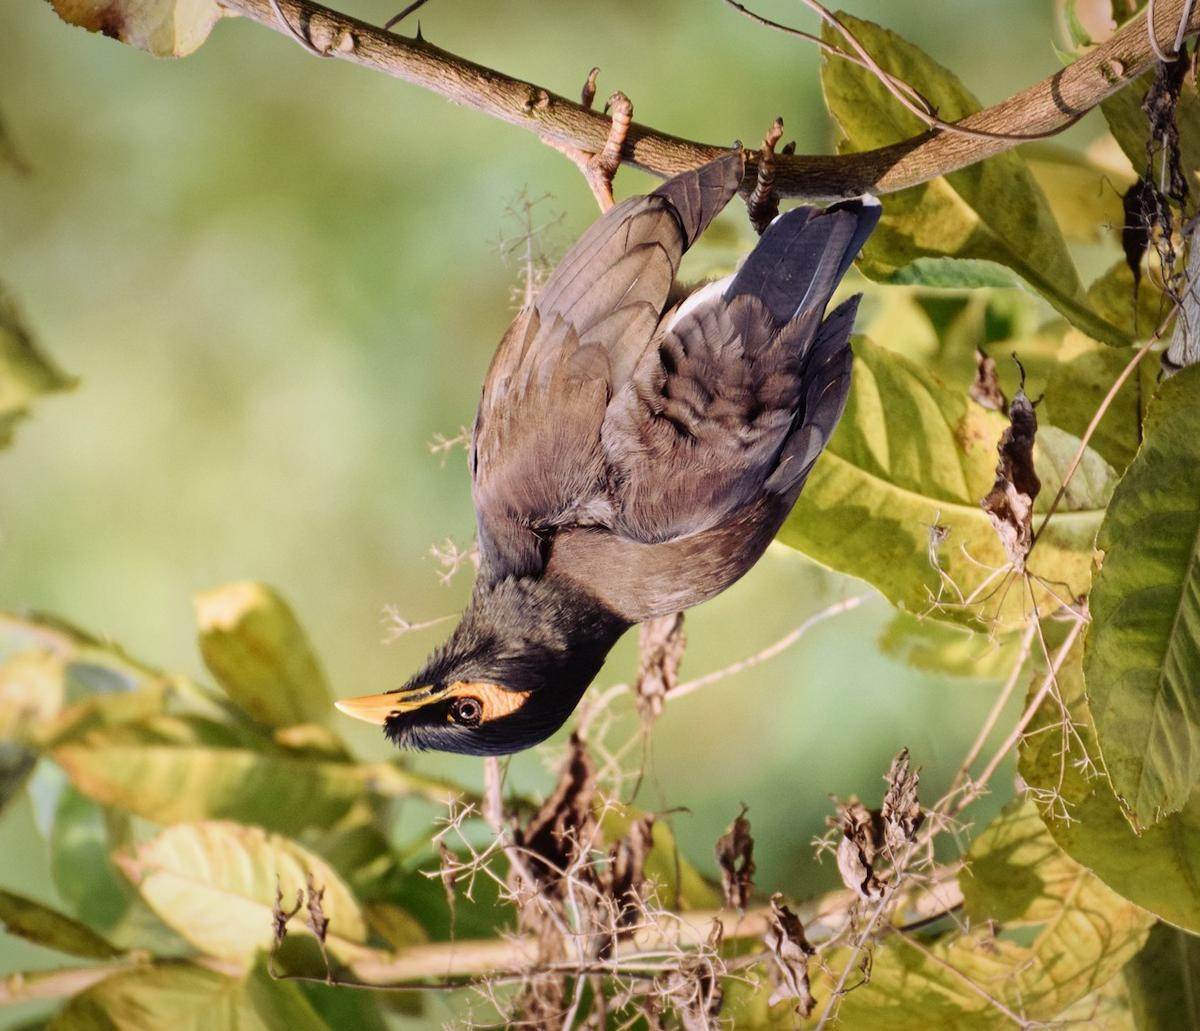myna: (326, 119, 914, 797)
